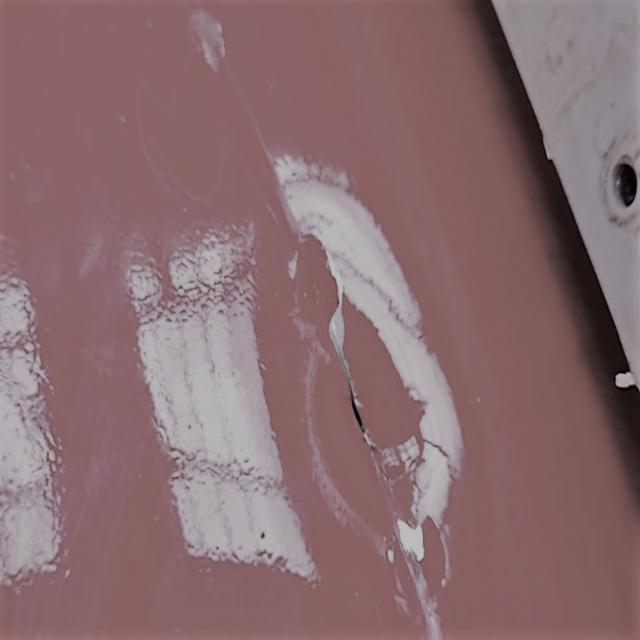crack: (280, 183, 414, 557)
